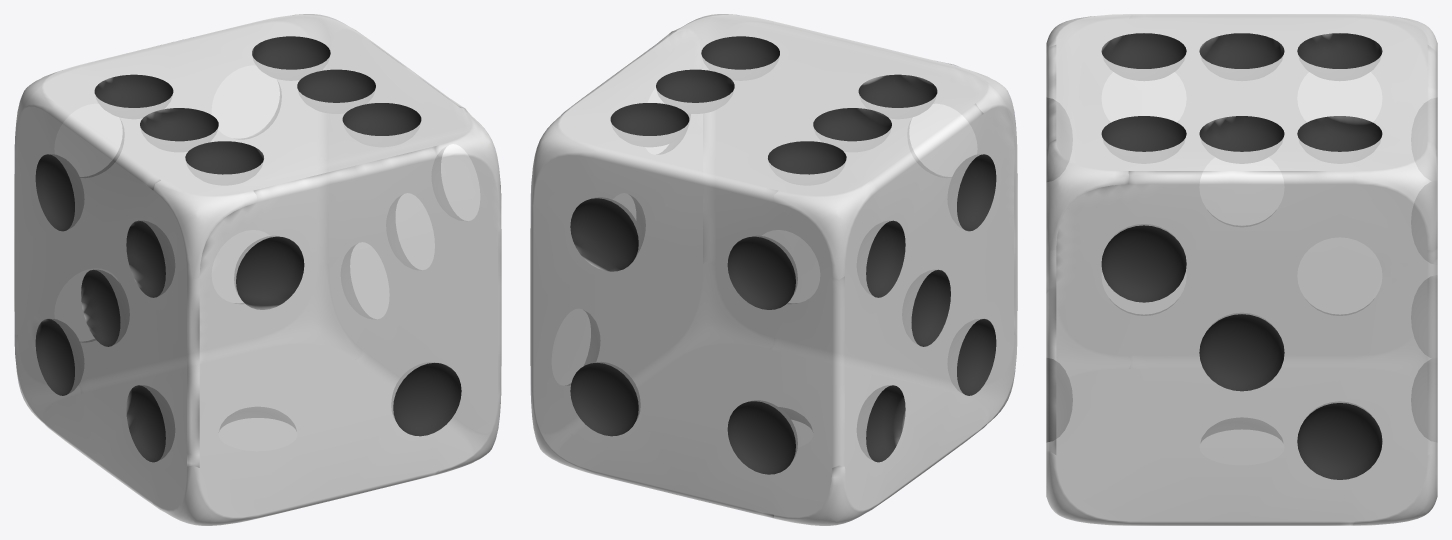
3 renders of one model, left to right at view 1: azimuth 30°, elevation 25°; view 2: azimuth 150°, elevation 25°; view 3: azimuth 270°, elevation 25°, orthographic. The views are drawn at different scales.
Visible parts, largest first — view 1: g (×2); view 2: g (×2); view 3: g (×2).
Boxes of the visible parts, x1=… form: g (×2): x1=14, y1=14, x2=501, y2=525; g (×2): x1=530, y1=14, x2=1017, y2=525; g (×2): x1=1046, y1=14, x2=1437, y2=525.
Size of the model in its own units: 2 by 2 by 2.
Materials: 1 (1 with a texture image).
